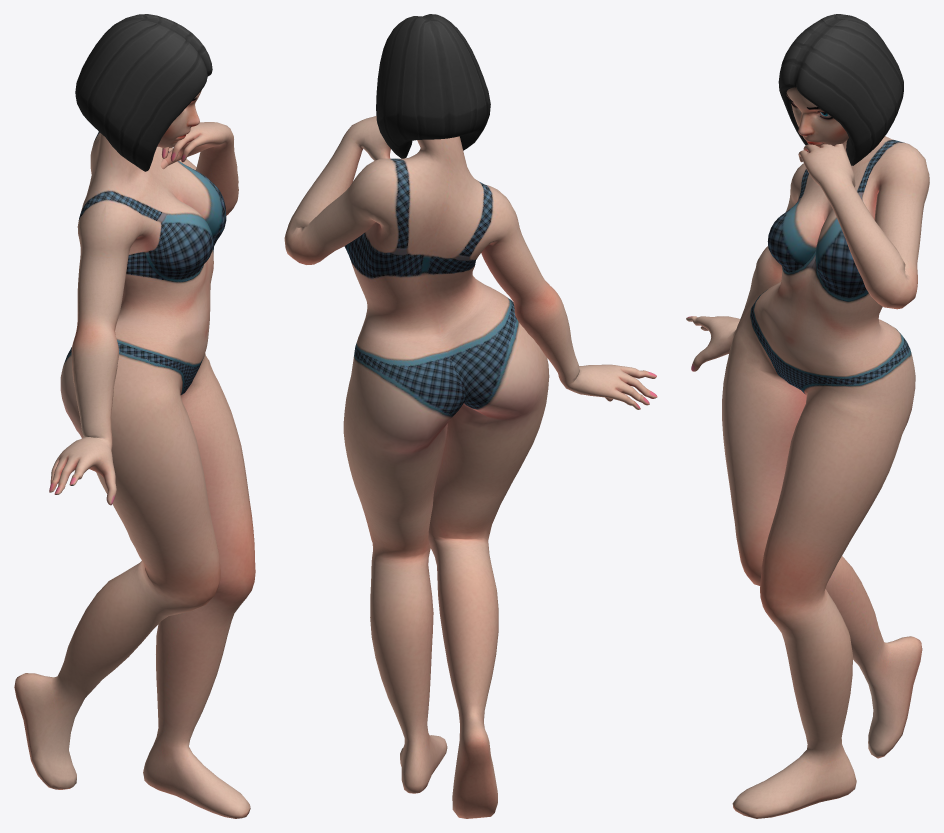
File: PoseMannequinn.fbx
The picture shows the model from 3 angles, left to right: view 1: azimuth 30°, elevation 25°; view 2: azimuth 150°, elevation 25°; view 3: azimuth 270°, elevation 25°; orthographic projection.
Parts seen in each view (by area): view 1: FemaleBalıkEtli; view 2: FemaleBalıkEtli; view 3: FemaleBalıkEtli.
Boxes of the visible parts, bbox=[...] form: FemaleBalıkEtli: bbox=[14, 14, 255, 818]; FemaleBalıkEtli: bbox=[284, 14, 657, 818]; FemaleBalıkEtli: bbox=[686, 14, 929, 818].
Size of the model in its own units: 12.21 by 33.06 by 9.46.
